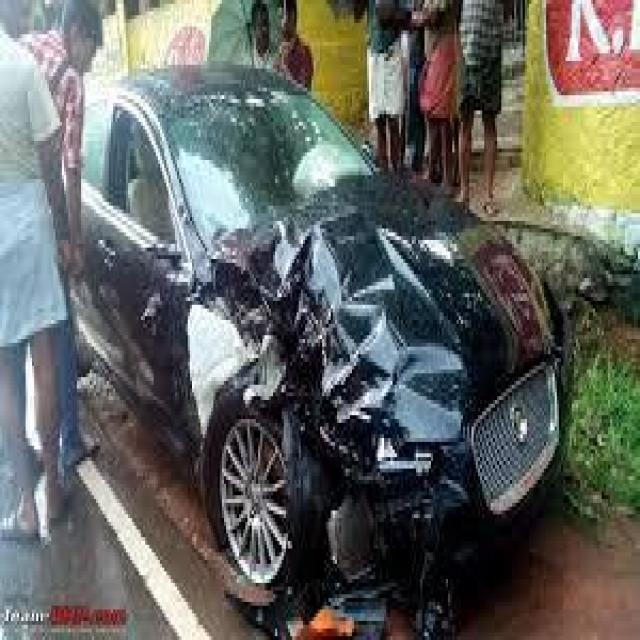moderate: (68, 38, 574, 617)
